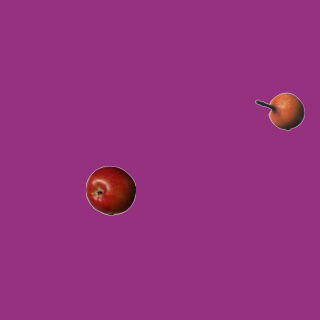Apple Braeburn: (85, 165, 135, 215)
Granadilla: (254, 86, 304, 136)
